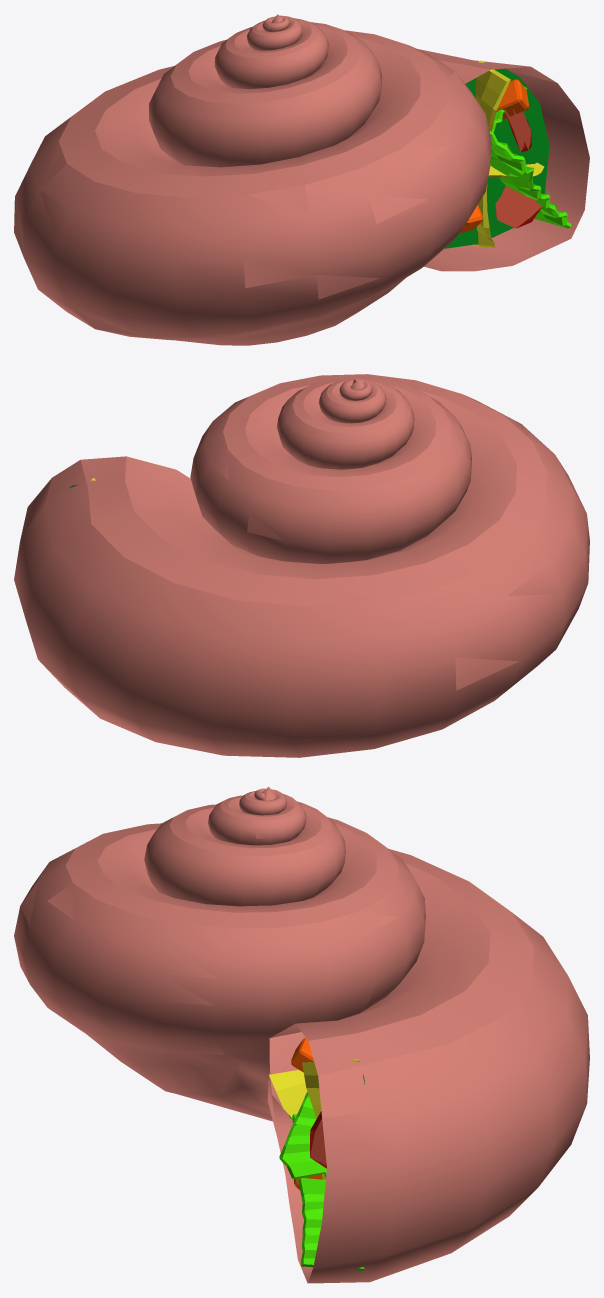
Rendered from ZpuDelikates.fbx.
The picture shows the model from 3 angles, top to bottom: view 1: azimuth 30°, elevation 25°; view 2: azimuth 150°, elevation 25°; view 3: azimuth 270°, elevation 25°; orthographic projection. The views are drawn at different scales.
Parts seen in each view (by area): view 1: Cube.001; view 2: Cube.001; view 3: Cube.001.
Part boxes in pixels (left/top/right/bottom): Cube.001: left=14, top=14, right=589, bottom=345; Cube.001: left=14, top=374, right=589, bottom=757; Cube.001: left=14, top=786, right=589, bottom=1283.
Bounding box in the file's own units: 195 × 109 × 163.
